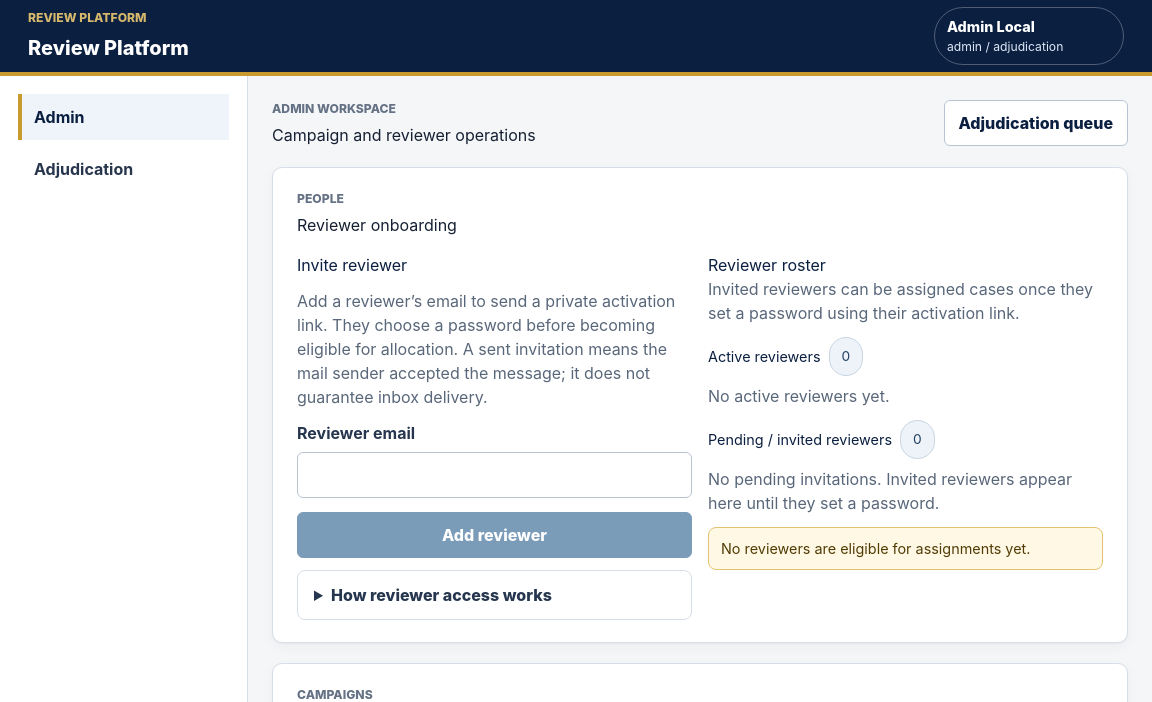
Test: admin dashboard reviewer invitation › shows a delivery-failure message and never claims success when the invitation email fails
Type "undeliverable@example.test" into the field labelled "Reviewer email" at (494, 476), box [297,452,692,498]
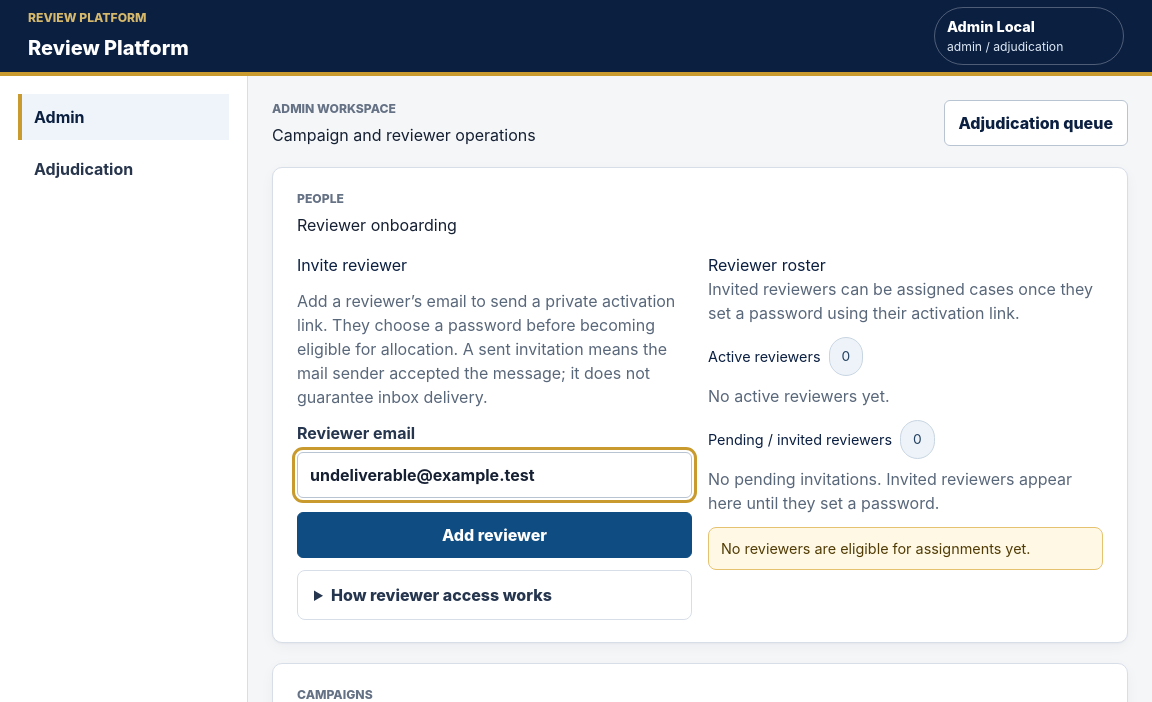
Click the button "Add reviewer" at (494, 536), box [297,512,692,558]
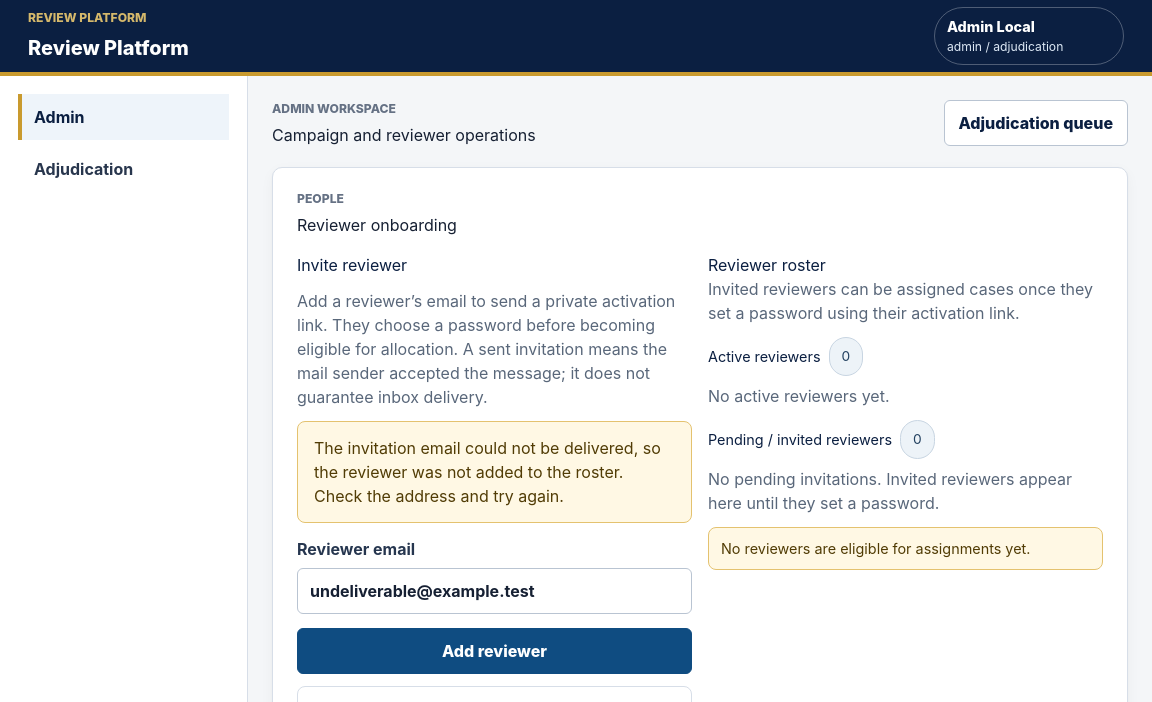
expect the text "invitation email could not be delivered, so the reviewer was not added" is shown: met, box [314,438,661,506]
